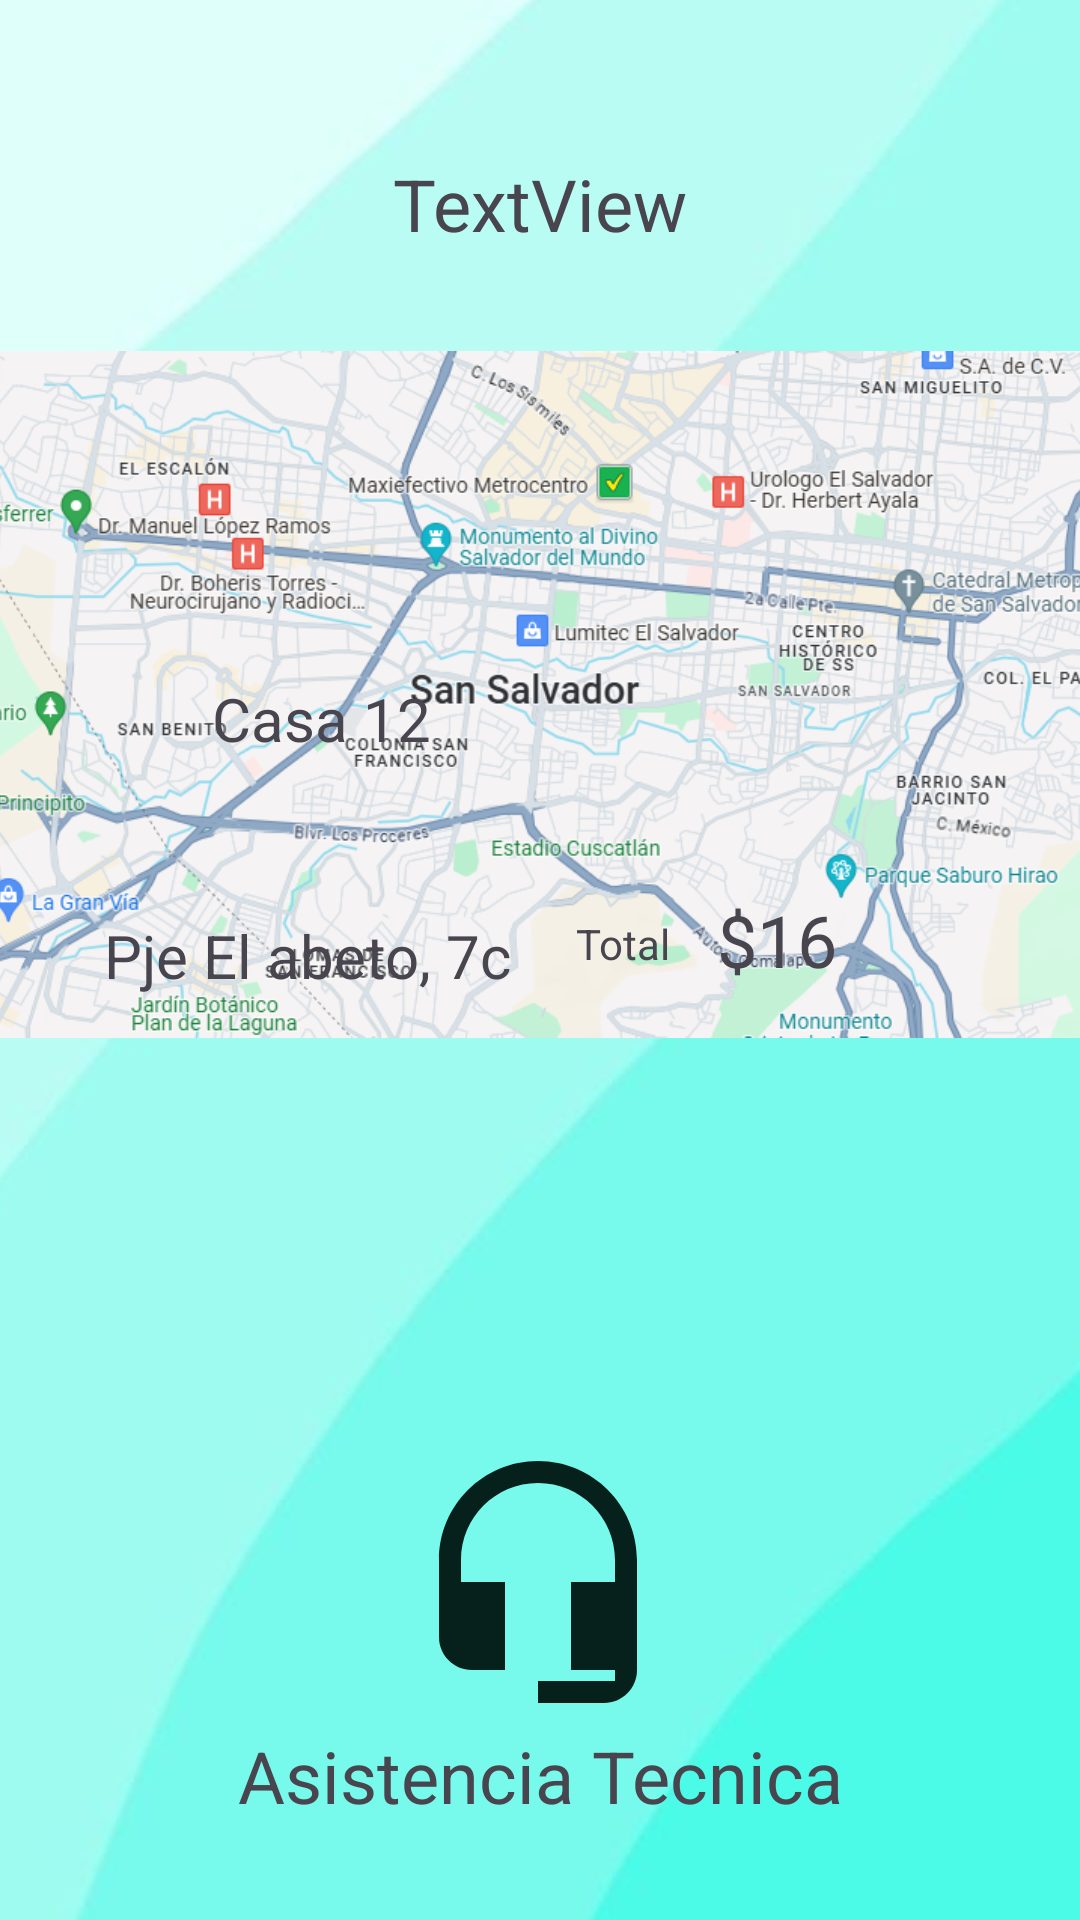

Screen size 1080px×1920px. Icon name, then its center in pixels as point (x, y):
headset mic: point (537, 1582)
